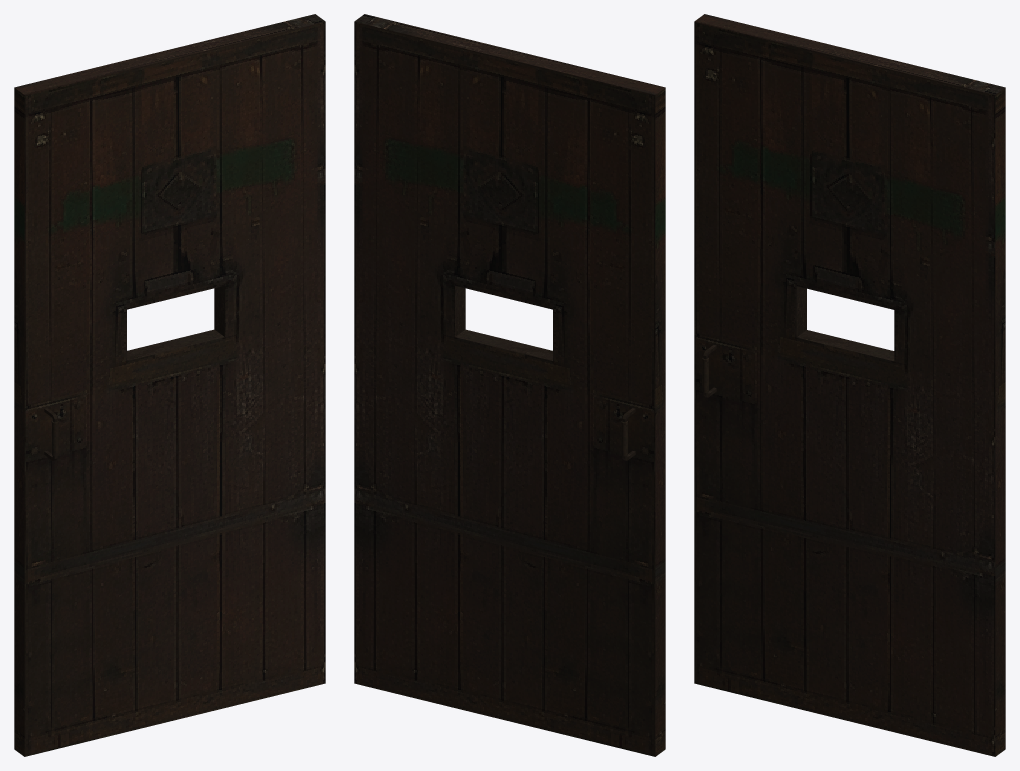
Rendered from door_mp_6_loose.glb.
The picture shows the model from 3 angles, left to right: view 1: azimuth 30°, elevation 25°; view 2: azimuth 150°, elevation 25°; view 3: azimuth 330°, elevation 25°; orthographic projection.
Visible parts, largest first — view 1: door_mp_6_loose; view 2: door_mp_6_loose; view 3: door_mp_6_loose.
Boxes of the visible parts, left/top/right/bottom form: door_mp_6_loose: left=14, top=14, right=325, bottom=756; door_mp_6_loose: left=354, top=14, right=665, bottom=756; door_mp_6_loose: left=694, top=14, right=1005, bottom=756.
Bounding box in the file's own units: 1 × 2.1 × 0.19.
1 material, 1 textured.
